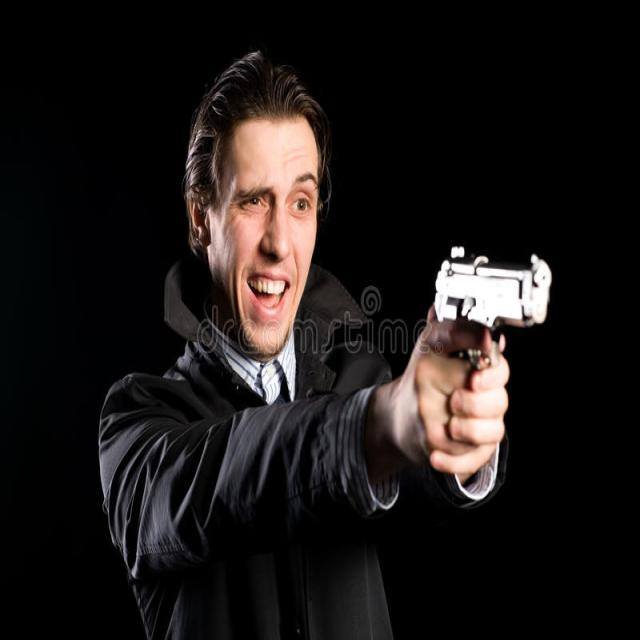handgun: (433, 245, 553, 357)
